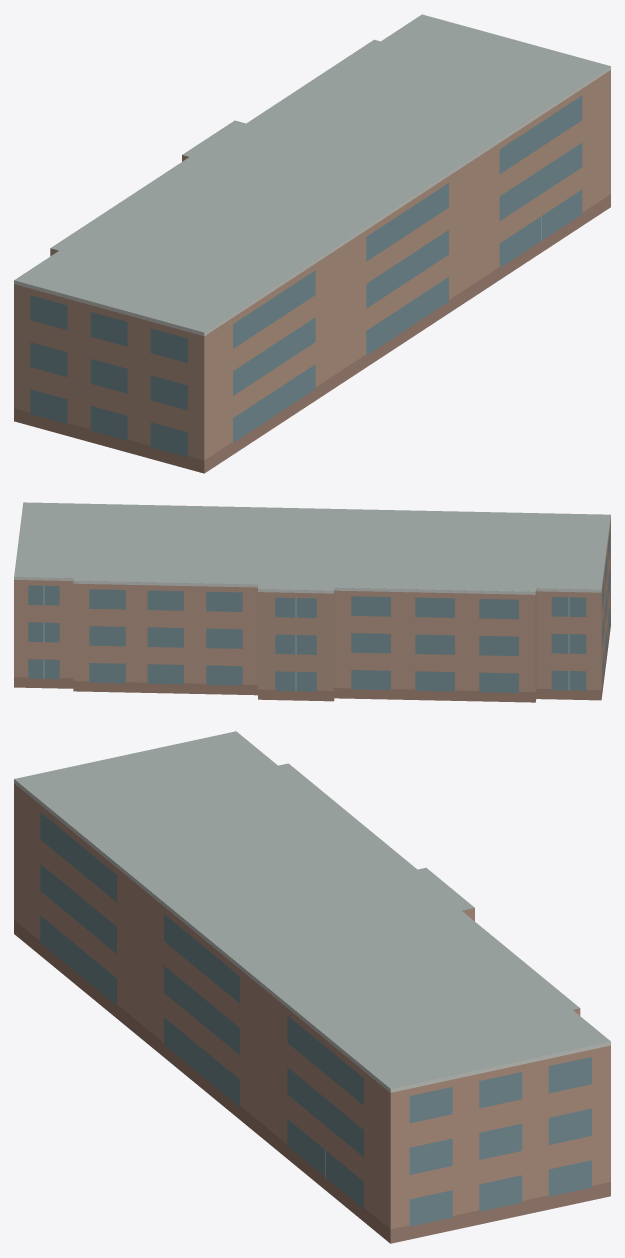
File: survey-upis-32836054.glb
3 views of the same model, one above another, from view 1: azimuth 30°, elevation 25°; view 2: azimuth 150°, elevation 25°; view 3: azimuth 270°, elevation 25° (orthographic). The views are drawn at different scales.
Parts seen in each view (by area): view 1: survey-upis-32836054.tmp; view 2: survey-upis-32836054.tmp; view 3: survey-upis-32836054.tmp.
Part boxes in pixels (left/top/right/bottom): survey-upis-32836054.tmp: left=14, top=14, right=610, bottom=473; survey-upis-32836054.tmp: left=14, top=502, right=610, bottom=702; survey-upis-32836054.tmp: left=14, top=731, right=610, bottom=1243.
Bounding box in the file's own units: 45.3 × 9.15 × 31.96.
